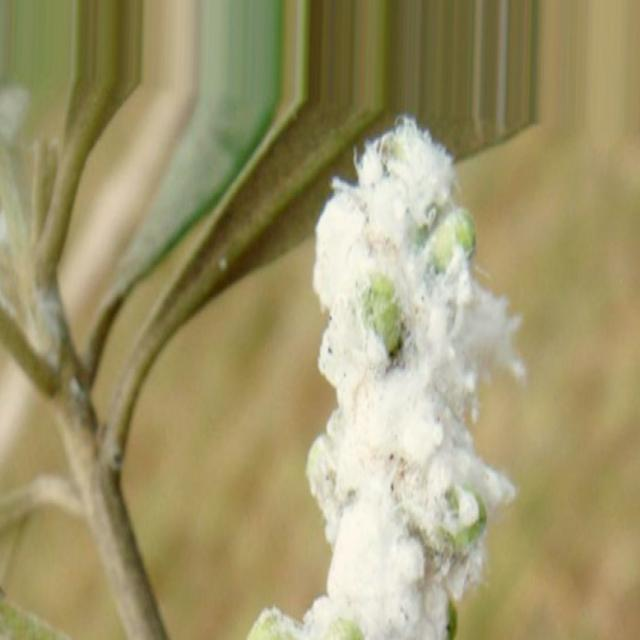Psyllid: (248, 120, 523, 639)
